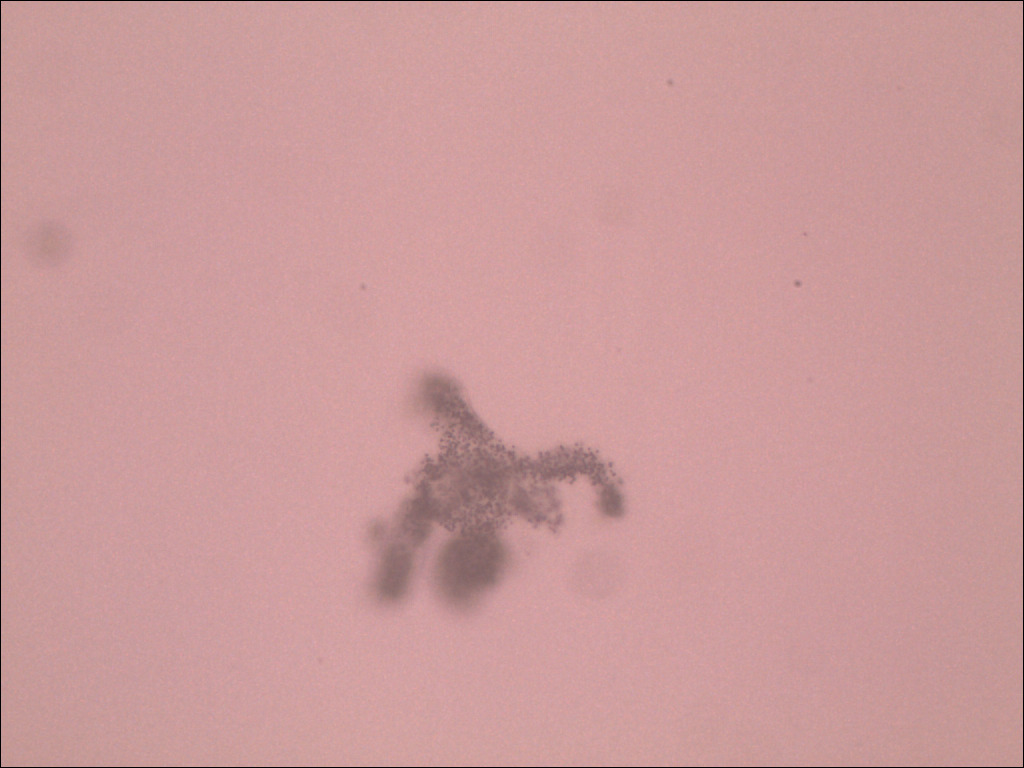amoeba: (358, 361, 635, 628)
